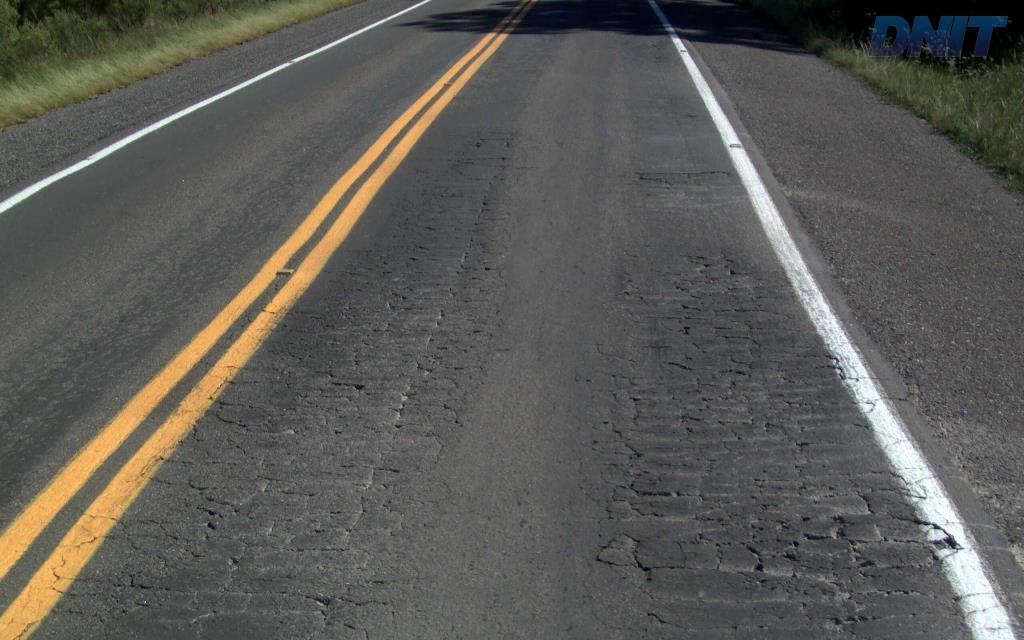crack: (615, 531, 692, 583), (830, 515, 875, 568)
